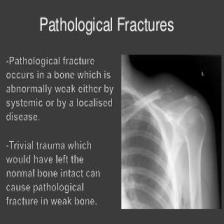pathological-fracture: (122, 54, 220, 210)
